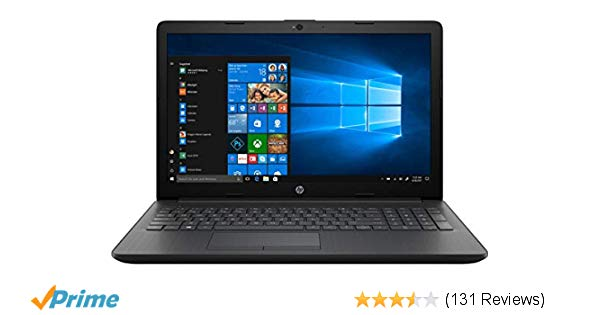Laptop: (103, 17, 493, 276)
